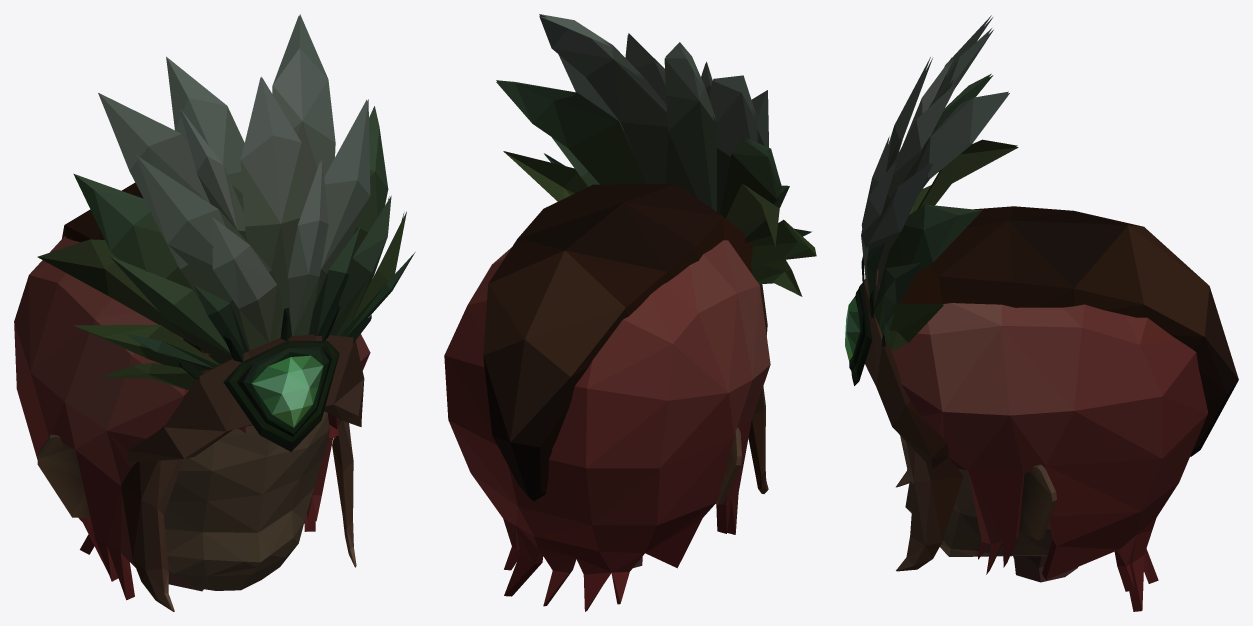
The model's file is helm_darkskin_standard_red_headress.fbx.
The picture shows the model from 3 angles, left to right: view 1: azimuth 30°, elevation 25°; view 2: azimuth 150°, elevation 25°; view 3: azimuth 270°, elevation 25°; orthographic projection. The views are drawn at different scales.
Parts seen in each view (by area): view 1: helm_darkskin_standard_red_headress; view 2: helm_darkskin_standard_red_headress; view 3: helm_darkskin_standard_red_headress.
Boxes of the visible parts, x1,y1,x2,y2 form: helm_darkskin_standard_red_headress: (14,14,415,611); helm_darkskin_standard_red_headress: (444,14,816,611); helm_darkskin_standard_red_headress: (845,15,1238,611).
Size of the model in its own units: 1.29 by 2.09 by 1.39.
